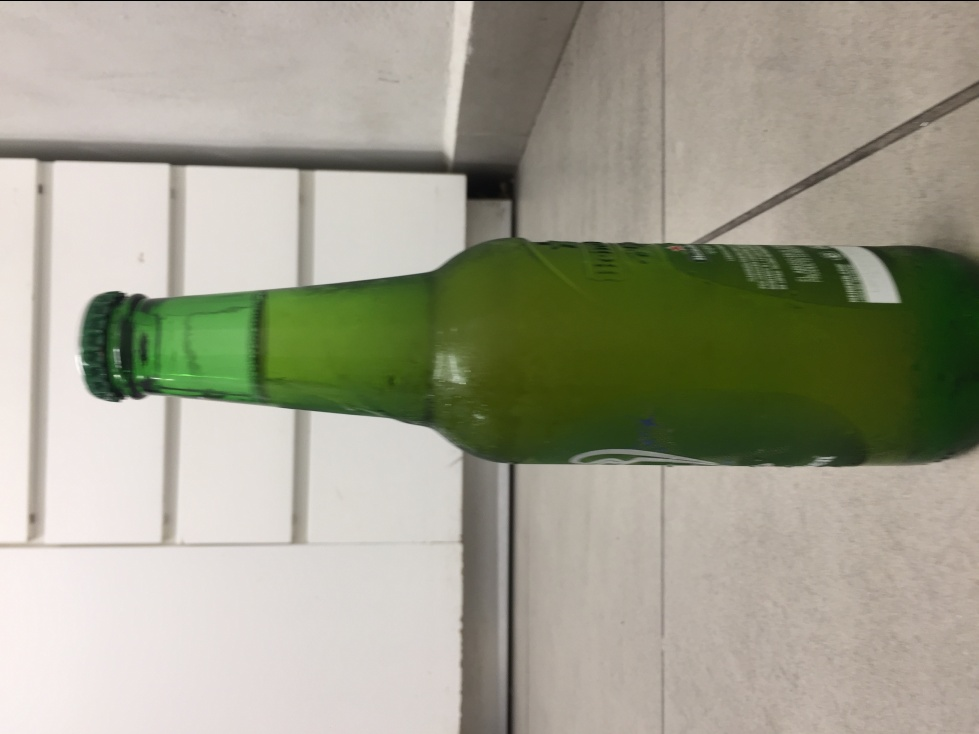heineken: (73, 234, 979, 470)
